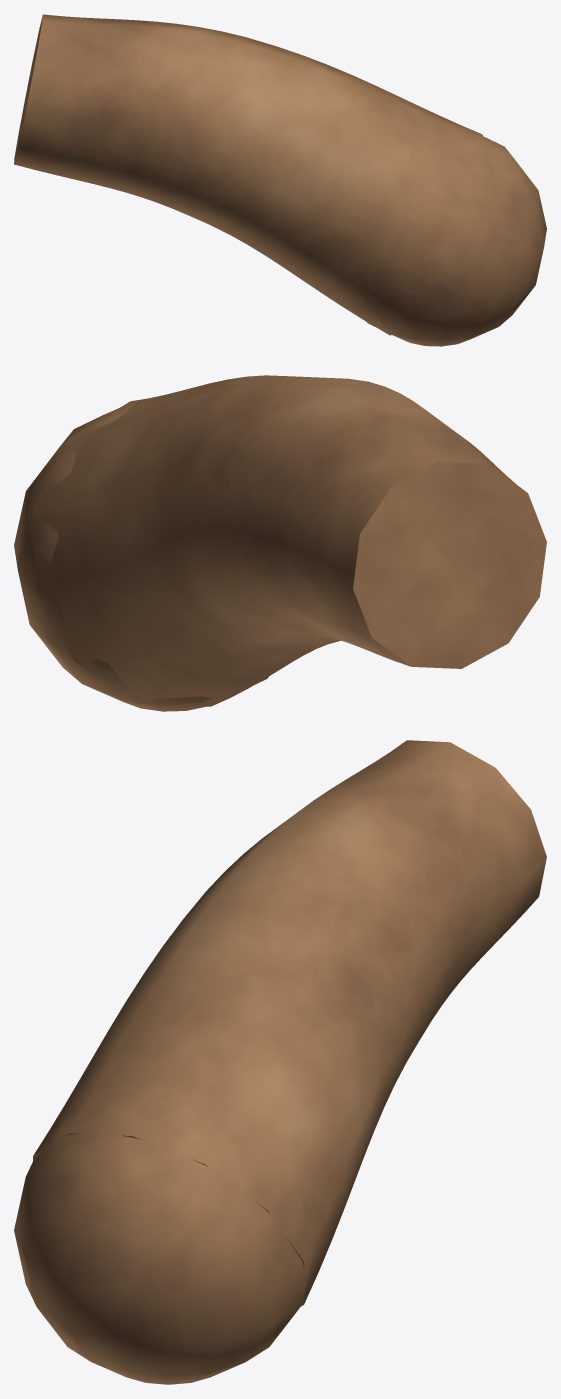
File: headcrab_muslo_tras_der.obj
3 views of the same model, one above another, from view 1: azimuth 30°, elevation 25°; view 2: azimuth 150°, elevation 25°; view 3: azimuth 270°, elevation 25° (orthographic). The views are drawn at different scales.
Visible parts, largest first — view 1: muslo_tras_der; view 2: muslo_tras_der; view 3: muslo_tras_der.
Part boxes in pixels (x1,y1,x2,y2): muslo_tras_der: (14, 14, 546, 346); muslo_tras_der: (14, 375, 546, 711); muslo_tras_der: (14, 740, 546, 1384).
Size of the model in its own units: 0.1443 by 0.0986 by 0.1104.
